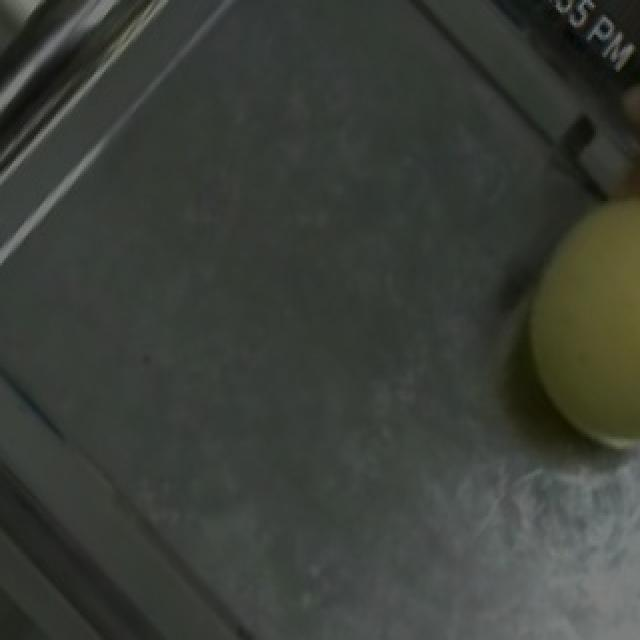Fruit: (474, 144, 640, 476)
